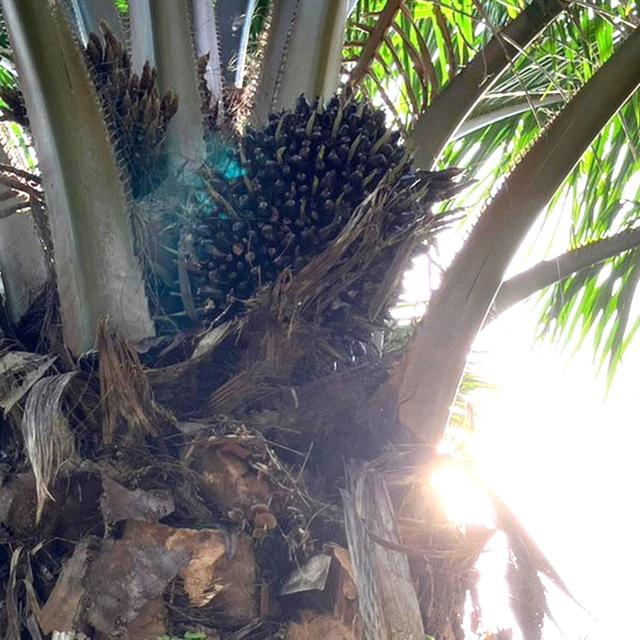unripe: (194, 98, 418, 343)
